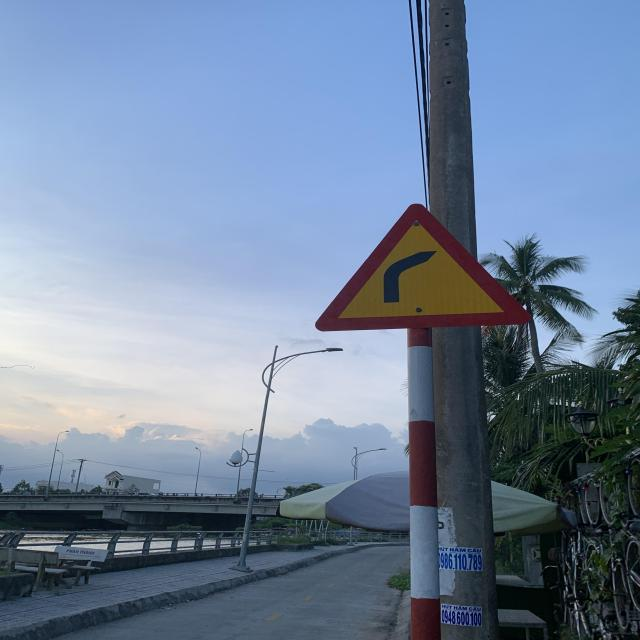Duong_Nguoi_Di_Bo_Cat_Ngang: (318, 206, 530, 336)
